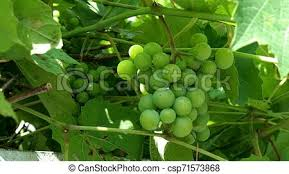grapes: (120, 39, 235, 141)
